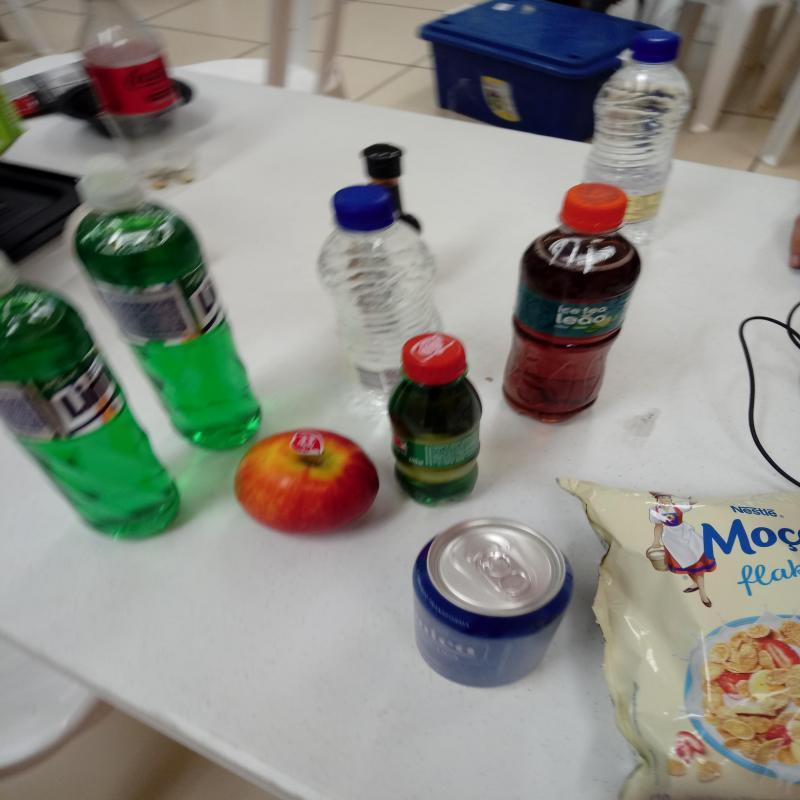Apple: (237, 428, 381, 536)
Cleaner: (0, 223, 181, 547), (75, 151, 264, 461)
CornFlakes: (554, 473, 800, 800)
EnglishSauce: (359, 142, 434, 236)
Guarana: (389, 333, 484, 506)
IceTea: (502, 182, 644, 420)
Tonic: (412, 515, 574, 696)
Water: (315, 181, 442, 398), (582, 30, 694, 228)
